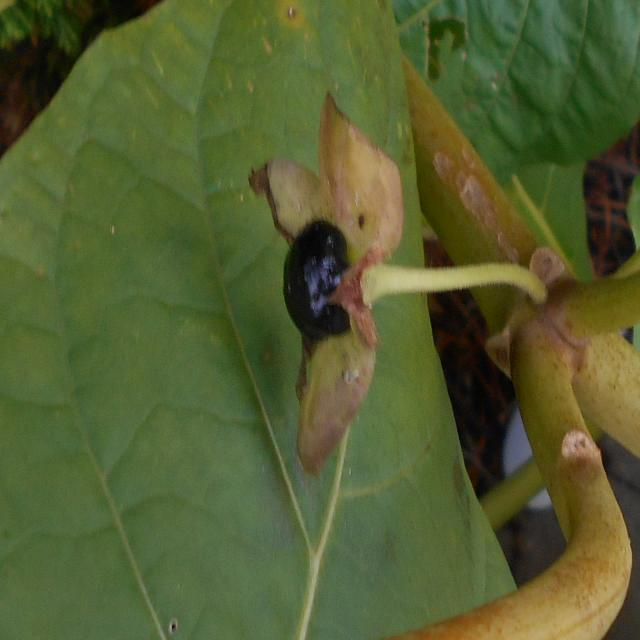Poisonous-Deadly_Nightshade: (243, 78, 423, 505)
